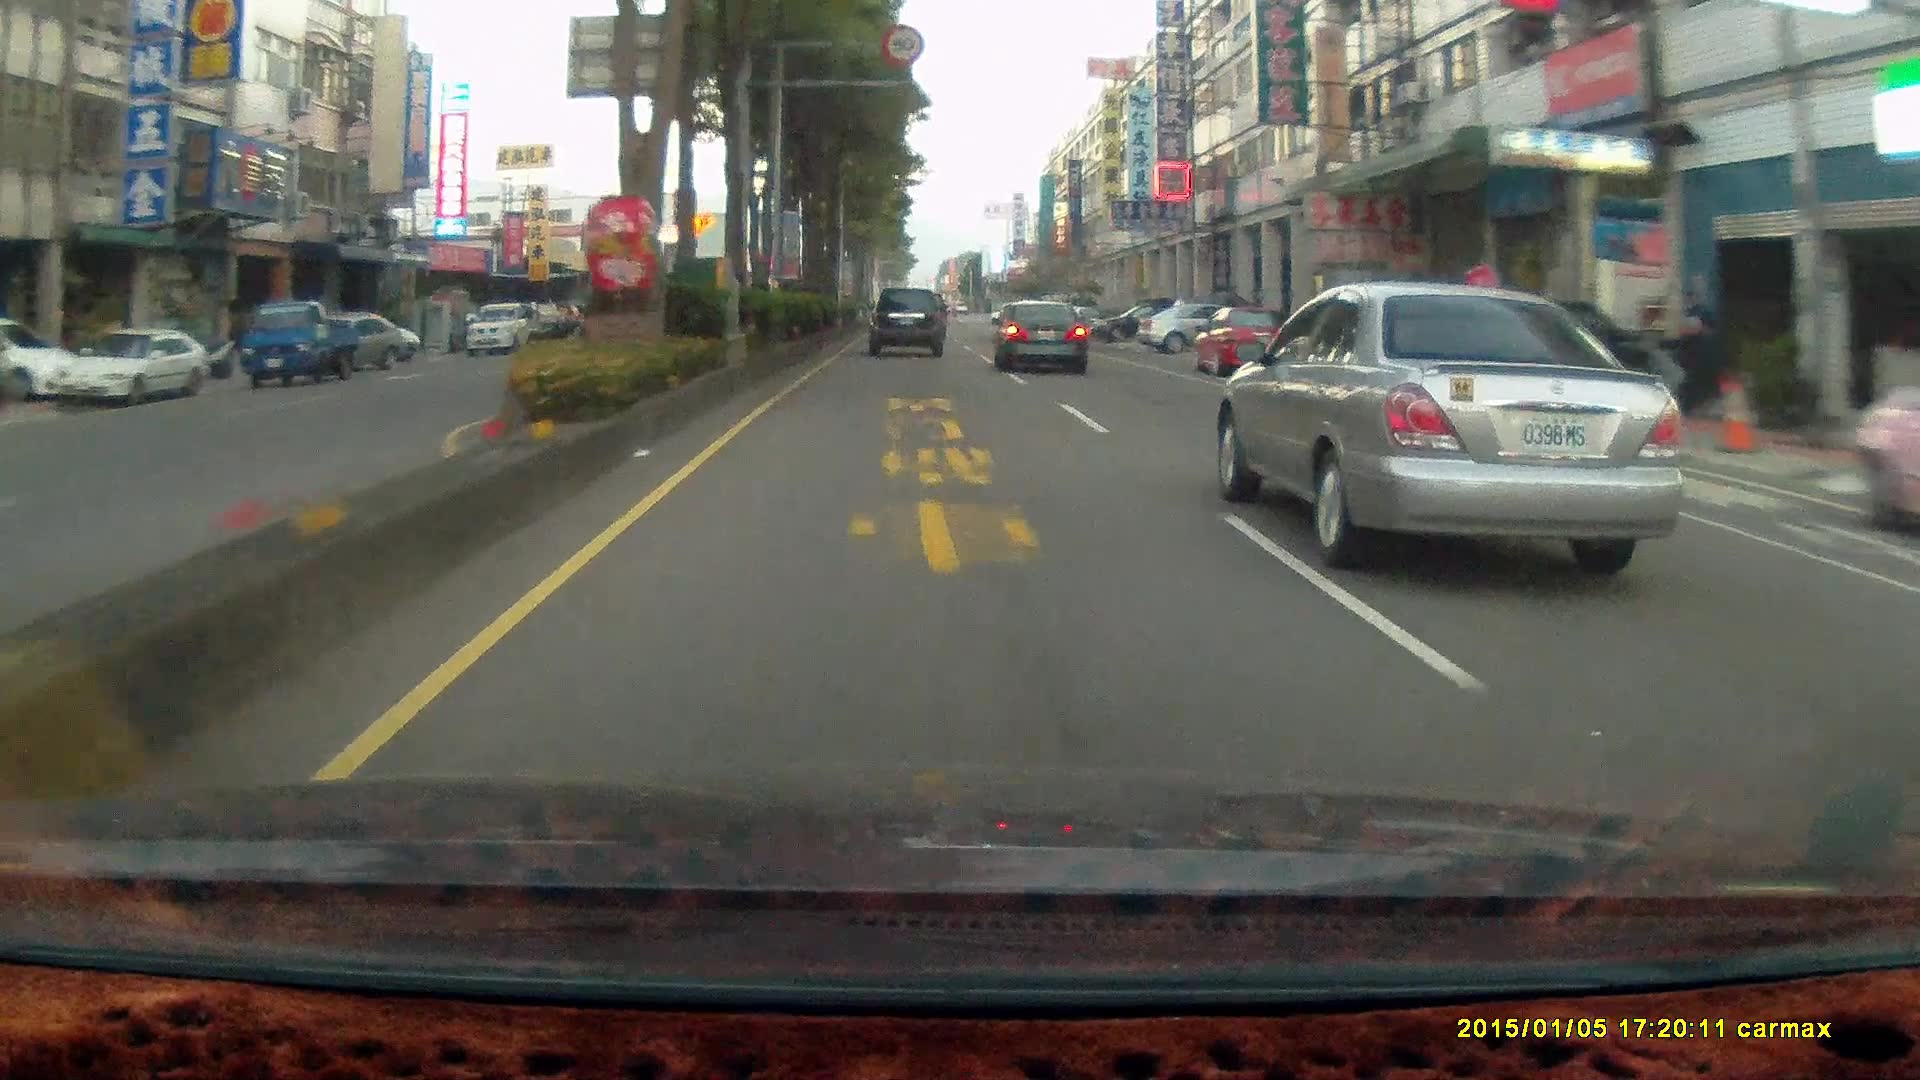vehicle: (1226, 286, 1706, 568), (1440, 291, 1656, 415), (47, 327, 206, 406), (1853, 364, 1920, 542), (237, 305, 371, 388), (55, 328, 204, 402), (239, 297, 359, 386), (1197, 309, 1300, 386), (990, 297, 1087, 375), (1189, 305, 1292, 376), (996, 301, 1091, 377), (1134, 297, 1261, 352), (0, 320, 80, 402), (291, 313, 401, 371), (866, 286, 949, 361), (864, 285, 944, 355), (464, 301, 535, 355), (1092, 301, 1185, 342)
